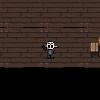Jason: (40, 40, 59, 59)
Obstacle: (88, 36, 100, 57)
